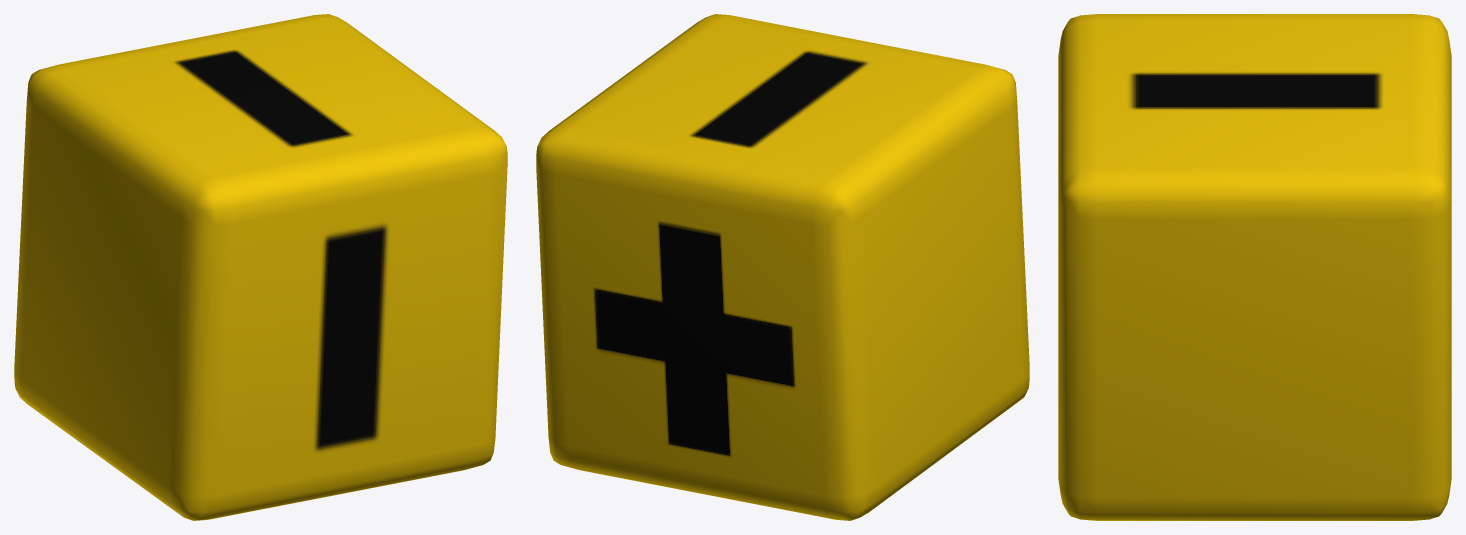
The model's file is dFudge.obj.
3 renders of one model, left to right at view 1: azimuth 30°, elevation 25°; view 2: azimuth 150°, elevation 25°; view 3: azimuth 270°, elevation 25°, orthographic. The views are drawn at different scales.
Parts seen in each view (by area): view 1: Six_sided_cube_pivot.003; view 2: Six_sided_cube_pivot.003; view 3: Six_sided_cube_pivot.003.
Part boxes in pixels (<box>): Six_sided_cube_pivot.003: <box>14,14,507,520</box>; Six_sided_cube_pivot.003: <box>536,14,1029,520</box>; Six_sided_cube_pivot.003: <box>1058,14,1451,520</box>.
Bounding box in the file's own units: 1.55 × 1.55 × 1.5.
Materials: 1 (1 with a texture image).
